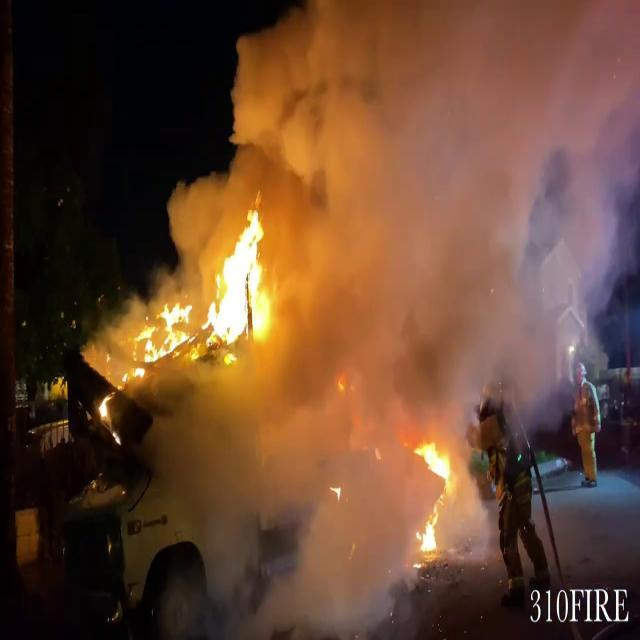Fire: (204, 205, 280, 351), (117, 277, 200, 378)
Smoke: (171, 0, 640, 380)
